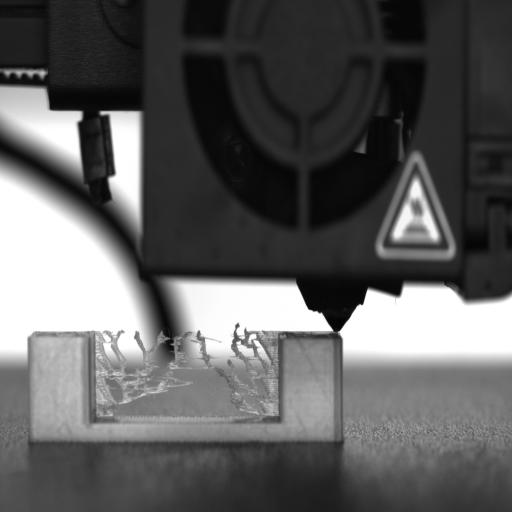spaghetti_and_stringing: (93, 326, 279, 418)
